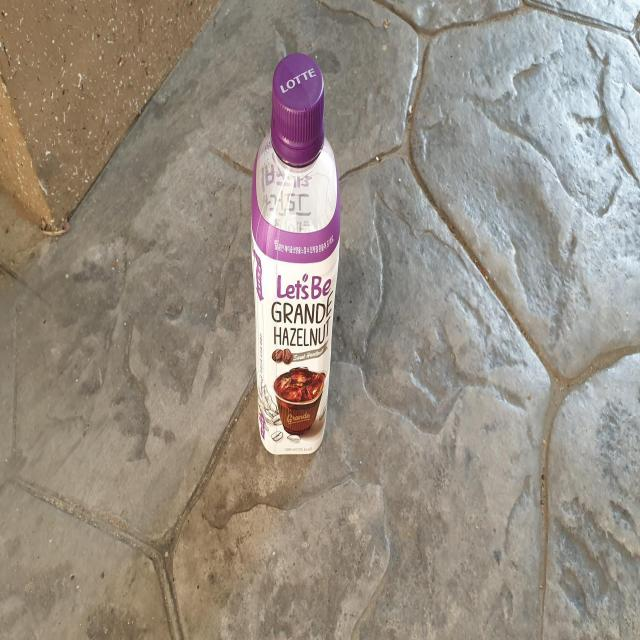plastic: (252, 52, 340, 454)
